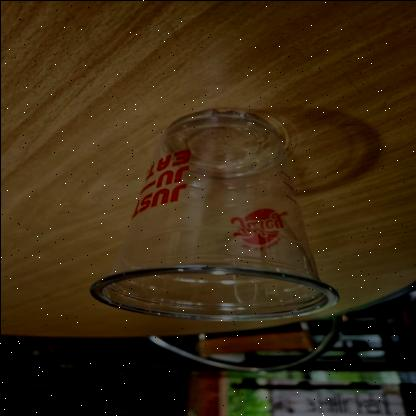Others: (80, 102, 348, 326)
